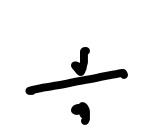plus: (25, 47, 128, 125)
